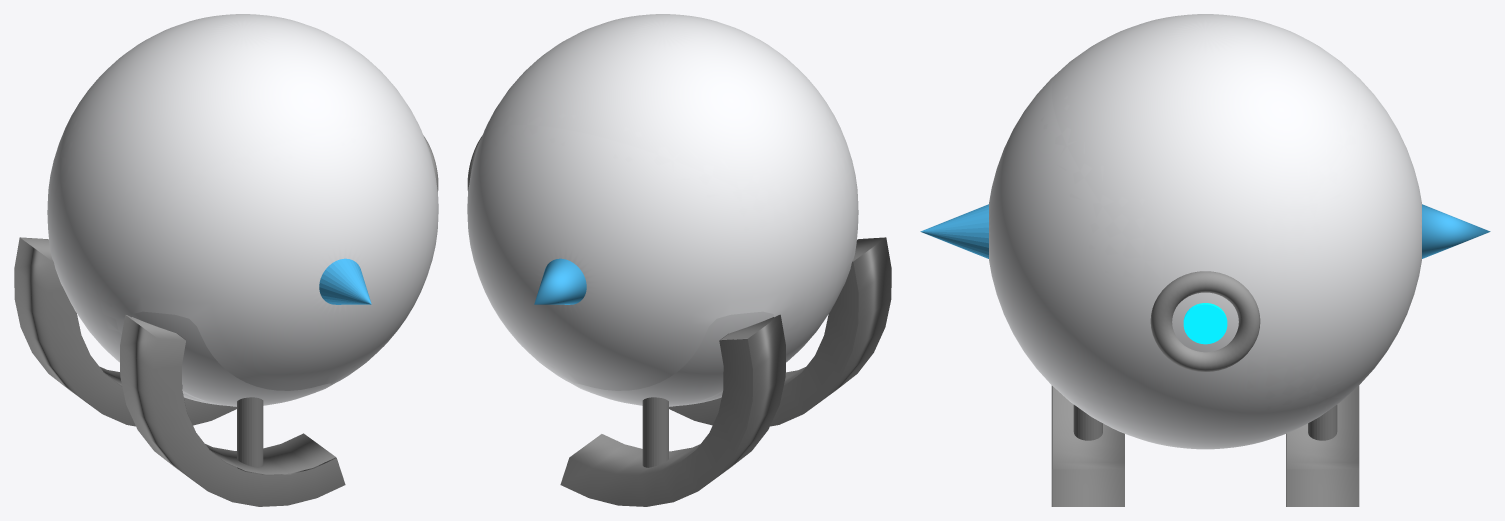
The model's file is Player.fbx.
3 views of the same model, side by side, from view 1: azimuth 30°, elevation 25°; view 2: azimuth 150°, elevation 25°; view 3: azimuth 270°, elevation 25° (orthographic). The views are drawn at different scales.
Visible parts, largest first — view 1: 球.001, 球, 円柱.001, 円柱, 円錐, 円柱.003; view 2: 球.001, 球, 円柱, 円柱.001, 円錐.001, 円柱.002; view 3: 球, 球.001, 円柱, 円柱.001, トーラス, 円錐, 円錐.001, 円柱.008, 円柱.002, 円柱.003.
Boxes of the visible parts, bbox=[...] form: 球.001: bbox=[47, 68, 438, 406]; 球: bbox=[51, 14, 430, 406]; 円柱.001: bbox=[120, 314, 345, 506]; 円柱: bbox=[14, 237, 236, 426]; 円錐: bbox=[319, 258, 371, 304]; 円柱.003: bbox=[237, 397, 263, 474]; 球.001: bbox=[467, 68, 858, 406]; 球: bbox=[475, 14, 854, 406]; 円柱: bbox=[560, 314, 785, 506]; 円柱.001: bbox=[669, 237, 891, 426]; 円錐.001: bbox=[534, 258, 586, 304]; 円柱.002: bbox=[642, 397, 668, 467]; 球: bbox=[1040, 14, 1370, 449]; 球.001: bbox=[989, 64, 1421, 411]; 円柱: bbox=[1286, 385, 1359, 506]; 円柱.001: bbox=[1051, 385, 1124, 506]; トーラス: bbox=[1150, 271, 1260, 371]; 円錐: bbox=[920, 204, 988, 258]; 円錐.001: bbox=[1422, 204, 1490, 258]; 円柱.008: bbox=[1183, 303, 1227, 344]; 円柱.002: bbox=[1308, 405, 1337, 440]; 円柱.003: bbox=[1073, 405, 1102, 440].
Bounding box in the file's own units: 301 × 349 × 390.
